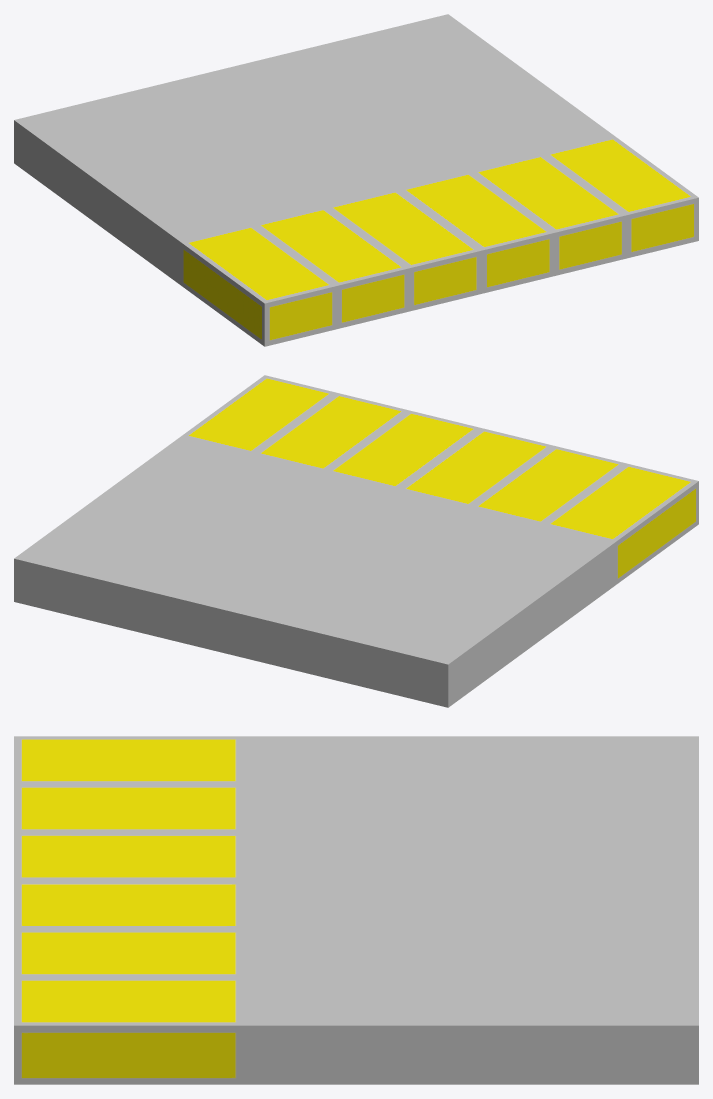
The model's file is PavementPavement3.fbx.
The picture shows the model from 3 angles, top to bottom: view 1: azimuth 30°, elevation 25°; view 2: azimuth 150°, elevation 25°; view 3: azimuth 270°, elevation 25°; orthographic projection. The views are drawn at different scales.
Parts seen in each view (by area): view 1: Pavement3; view 2: Pavement3; view 3: Pavement3.
Boxes of the visible parts, box(x1,y1,x2,y2) form: Pavement3: box(14, 14, 698, 346); Pavement3: box(14, 375, 698, 707); Pavement3: box(14, 736, 698, 1084).
Bounding box in the file's own units: 2 × 2 × 0.1904.
Materials: 1 (1 with a texture image).
